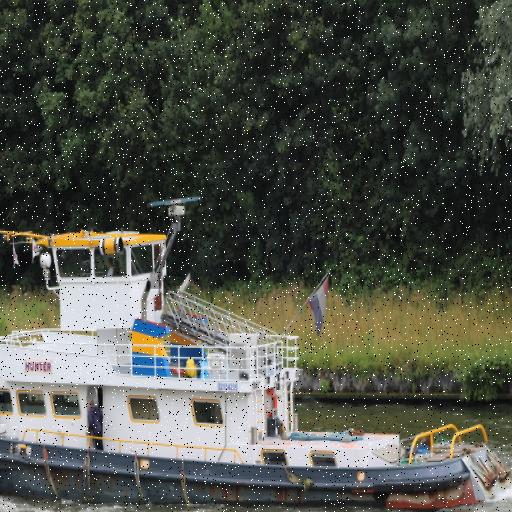tugboat: (1, 188, 512, 512)
